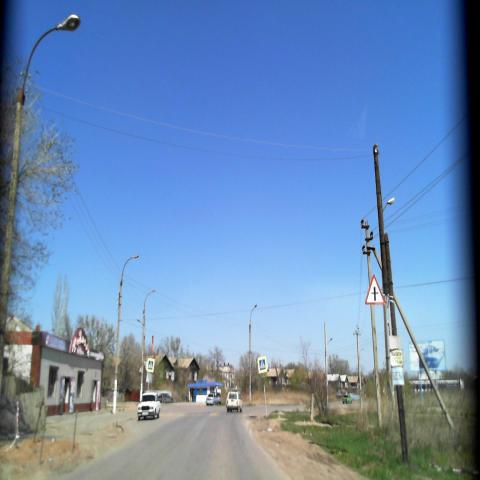2_3: (365, 272, 384, 304)
